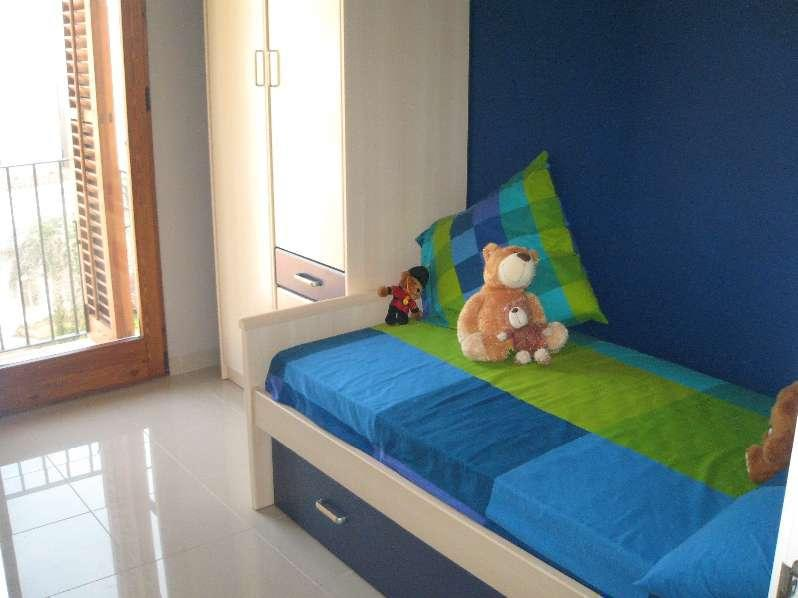Armario: (203, 3, 345, 372)
Cama: (235, 241, 792, 597)
Puerta: (5, 3, 166, 378)
